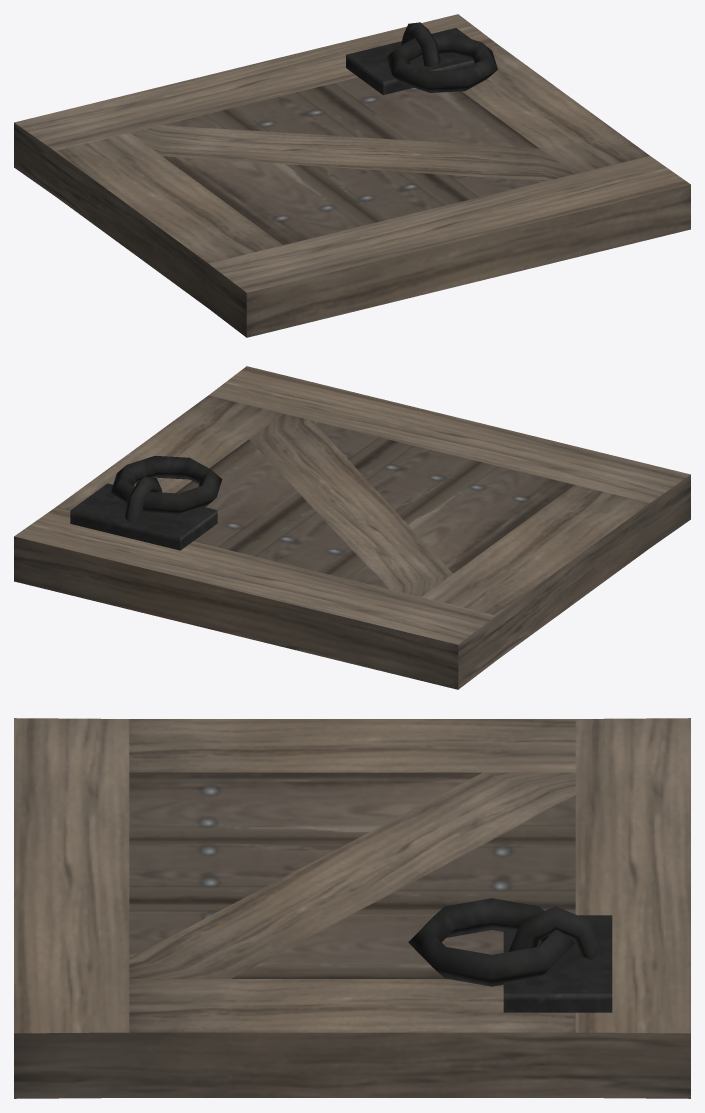
The model's file is Door_Half_B.fbx.
3 renders of one model, top to bottom at view 1: azimuth 30°, elevation 25°; view 2: azimuth 150°, elevation 25°; view 3: azimuth 270°, elevation 25°, orthographic. The views are drawn at different scales.
Parts seen in each view (by area): view 1: Door_Half_B; view 2: Door_Half_B; view 3: Door_Half_B.
Boxes of the visible parts, bbox=[...] form: Door_Half_B: bbox=[14, 14, 690, 337]; Door_Half_B: bbox=[14, 366, 690, 689]; Door_Half_B: bbox=[14, 718, 690, 1098].
Size of the model in its own units: 1.26 by 0.2485 by 1.15.
